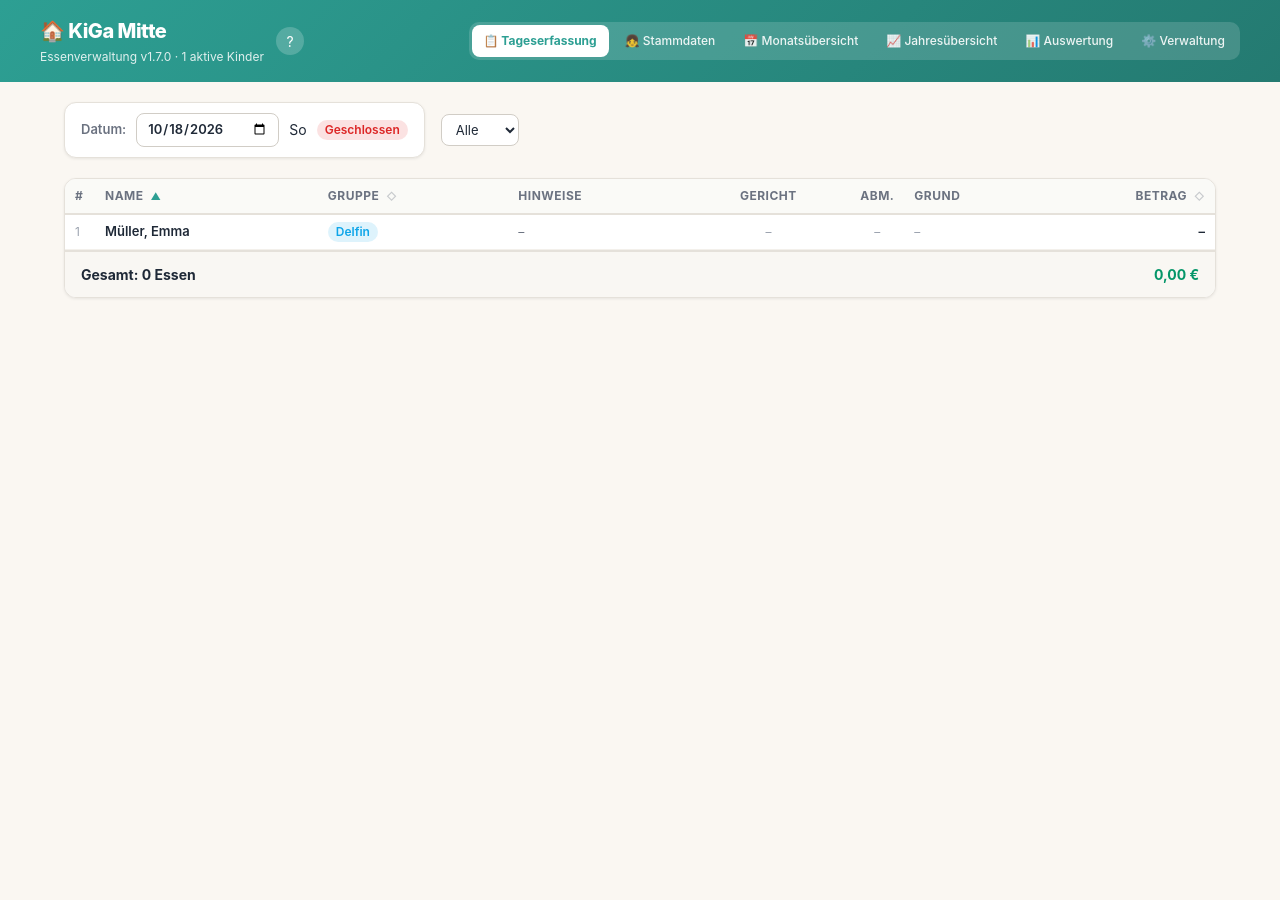
Scenario: Wochenerfassung-Toggle › zeigt den Tab, wenn er in der Verwaltung aktiviert wird
This screenshot has width=1280, height=900.
Check: the text "Müller, Emma" is shown, box 95,214 -> 318,249
Click the button "⚙️ Verwaltung" at (1183, 41), box 1129,25 -> 1237,57
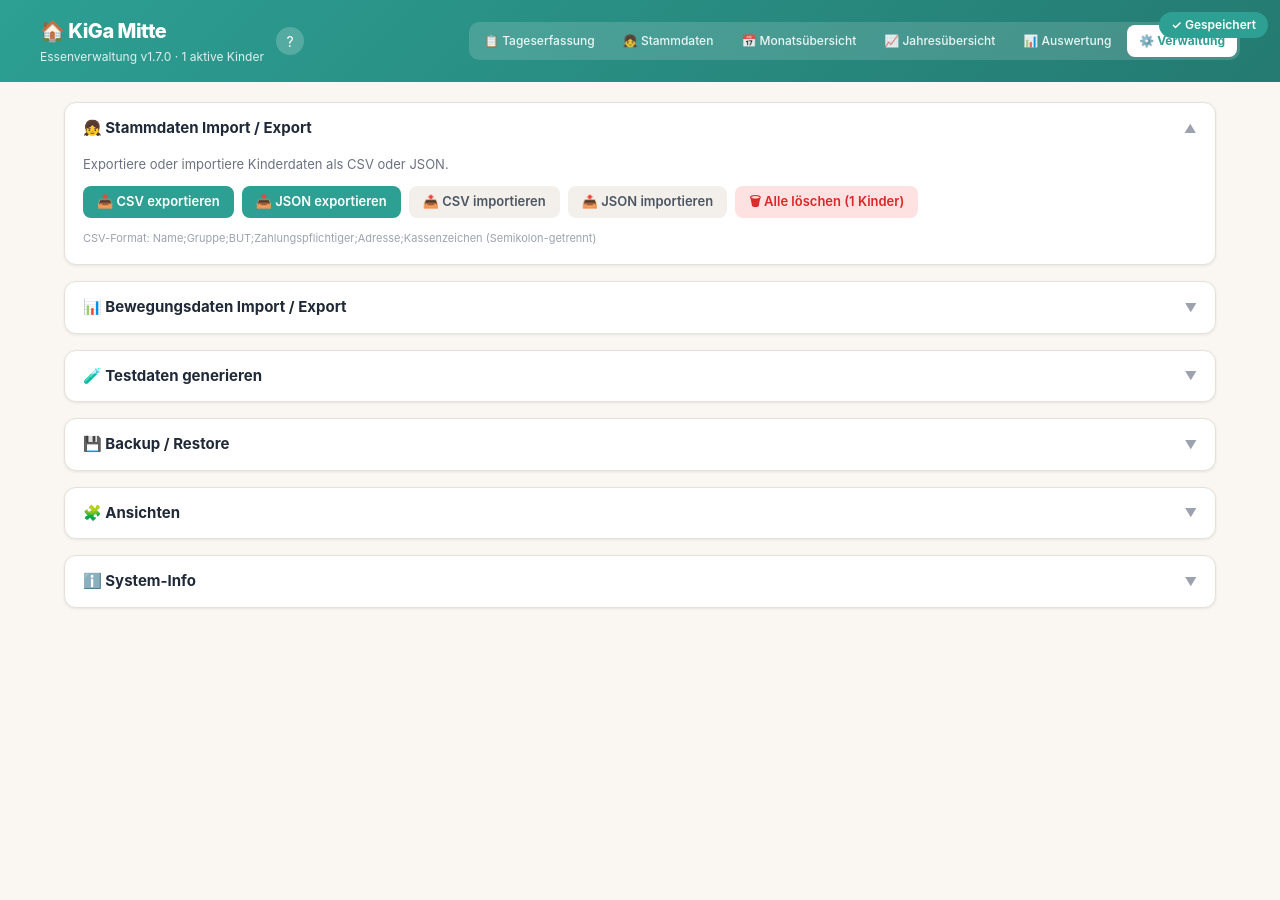
Click the text "🧩 Ansichten" at (132, 513), box 83,502 -> 180,524
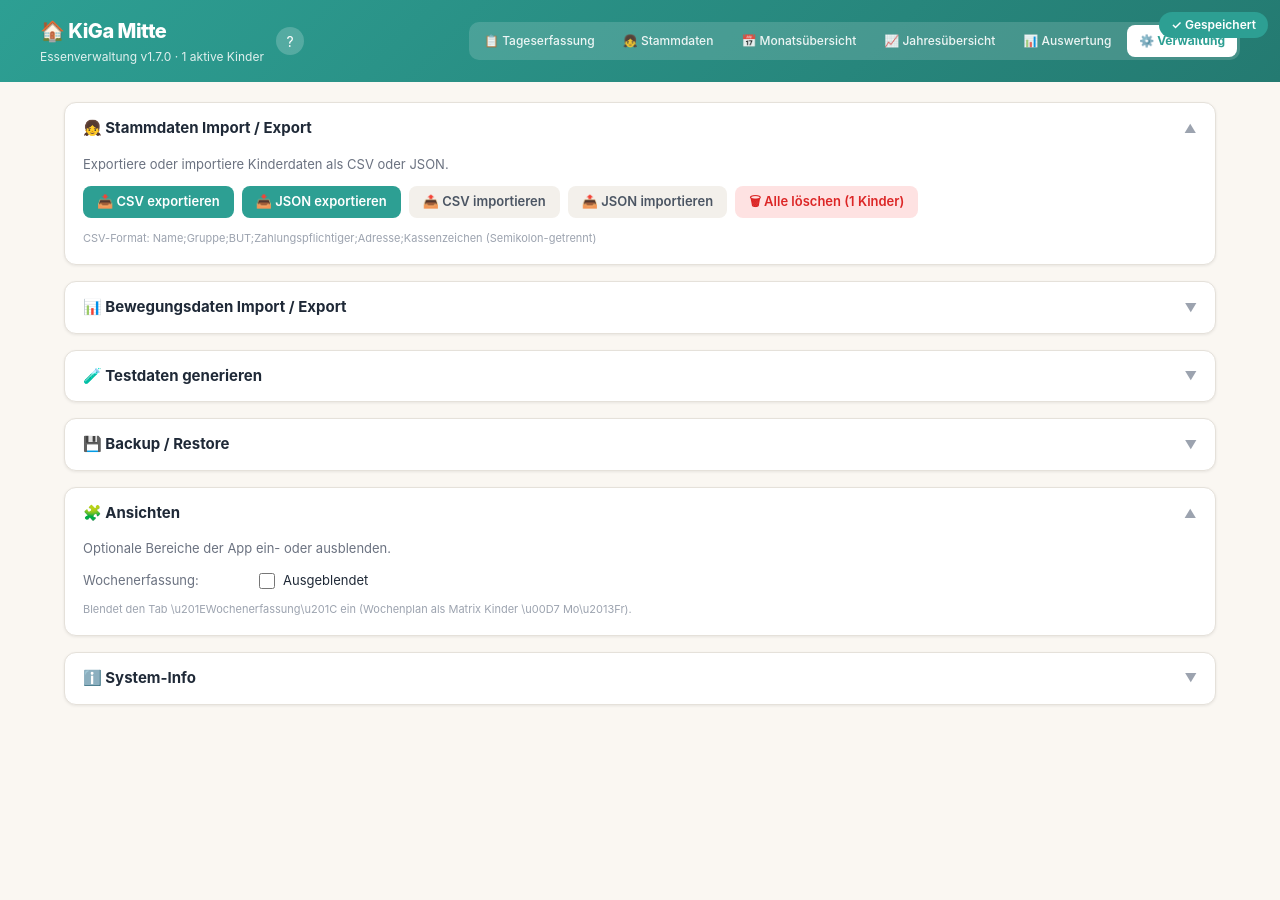
Click the checkbox at (267, 581), box 259,573 -> 275,589
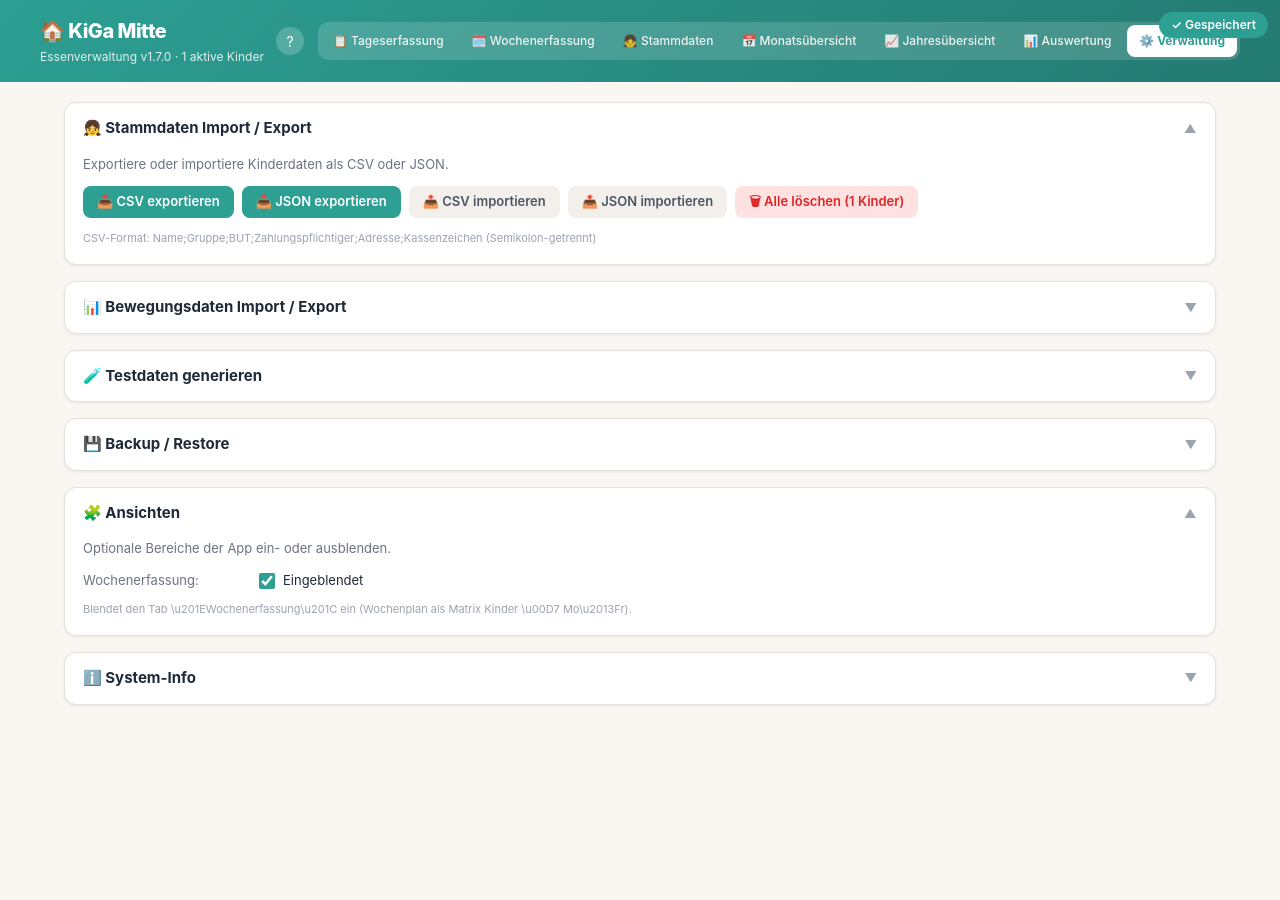
Check: the button "🗓️ Wochenerfassung" is shown, box 460,25 -> 607,57
